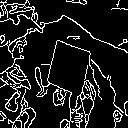cube: (42, 36, 96, 97)
